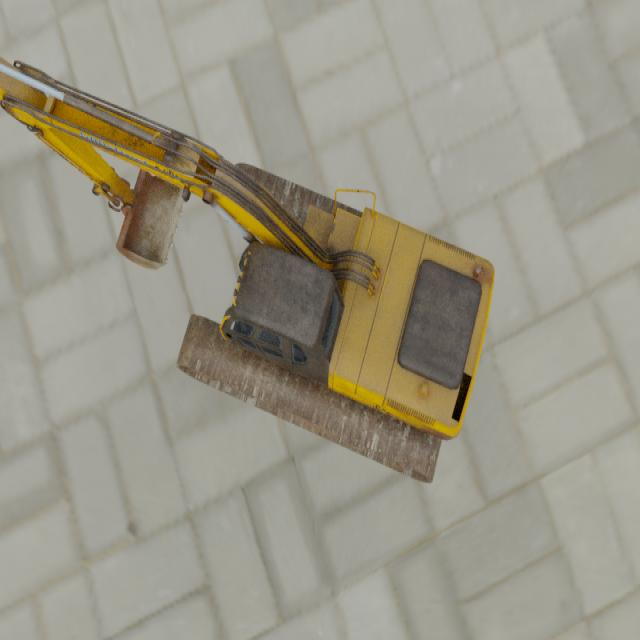excavator: (0, 55, 496, 482)
